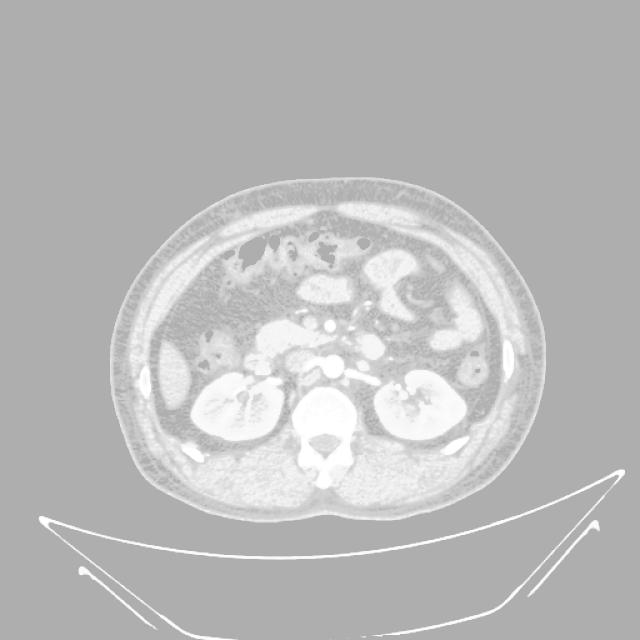NORMAL: (107, 186, 555, 521)
